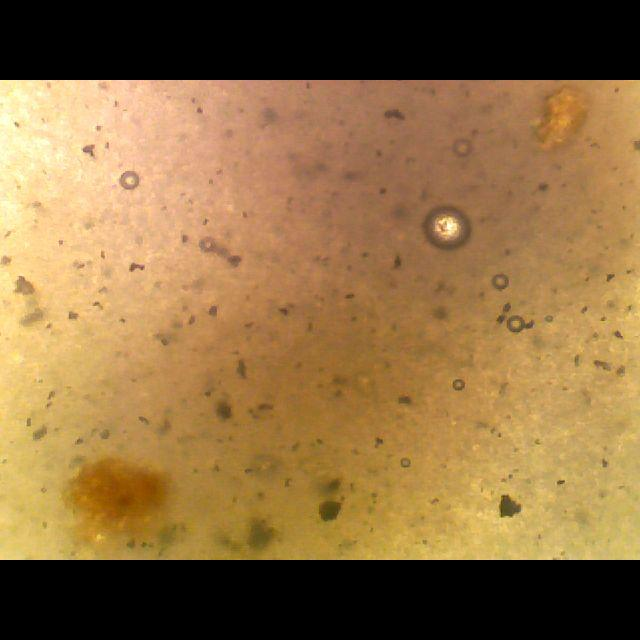Fragment: (54, 458, 190, 554), (524, 80, 594, 152), (488, 490, 528, 524), (311, 494, 347, 526)
microbeads: (419, 200, 473, 256), (119, 169, 143, 191), (452, 136, 472, 162)
